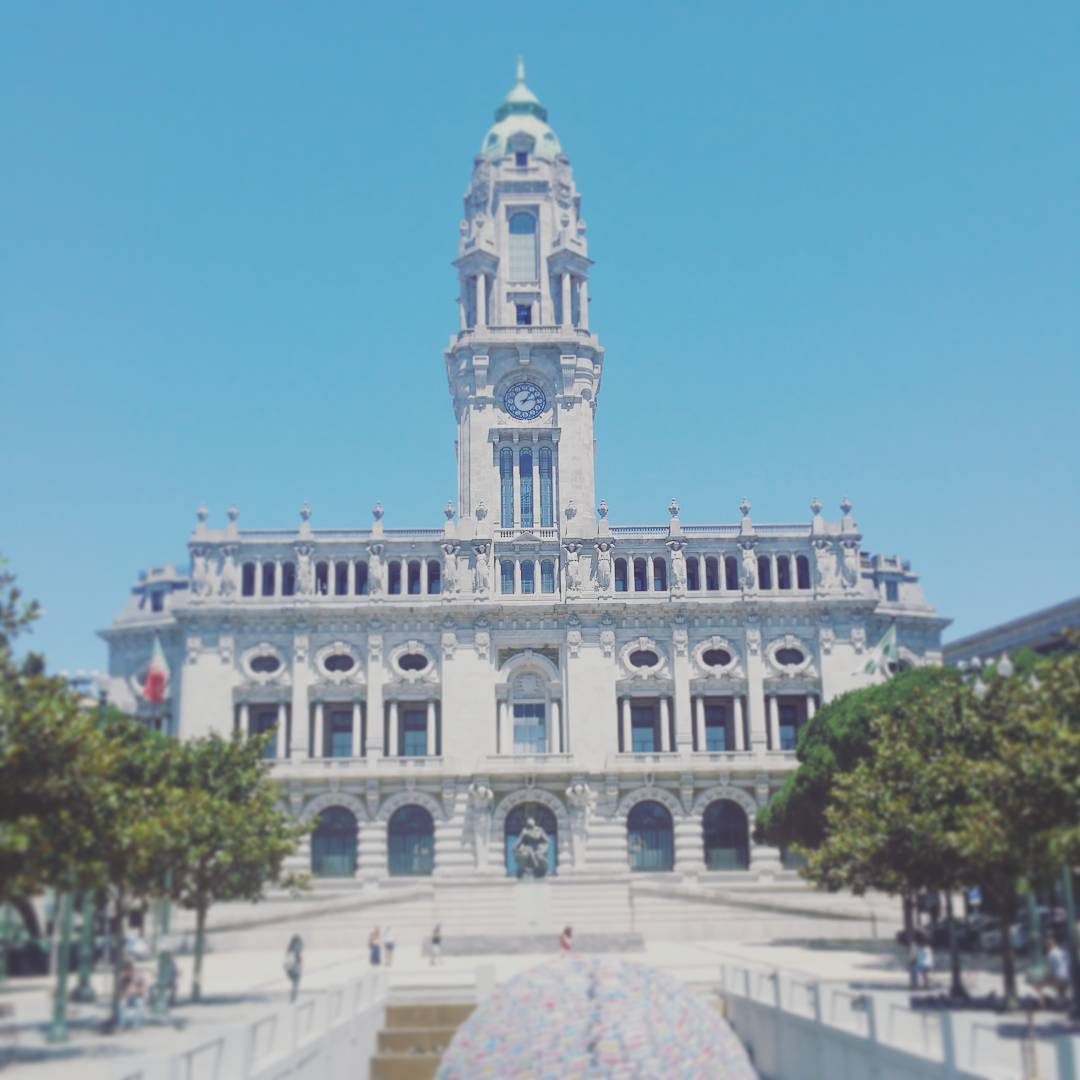camara: (95, 50, 955, 935)
